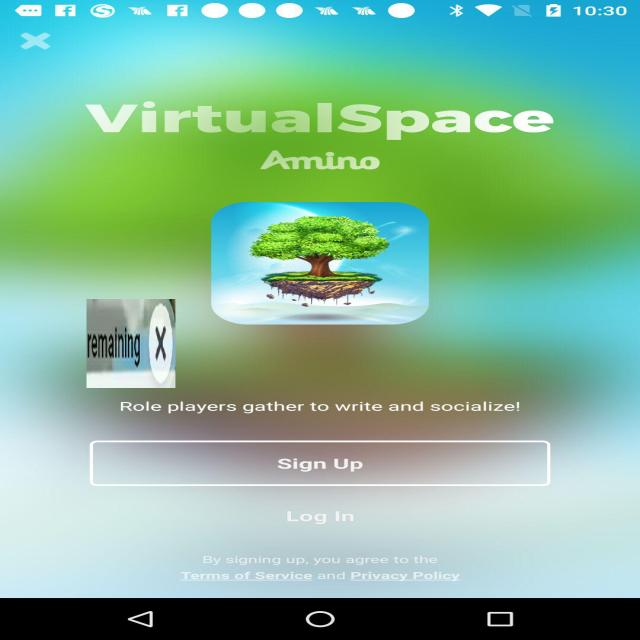misdirection: (86, 299, 176, 388)
